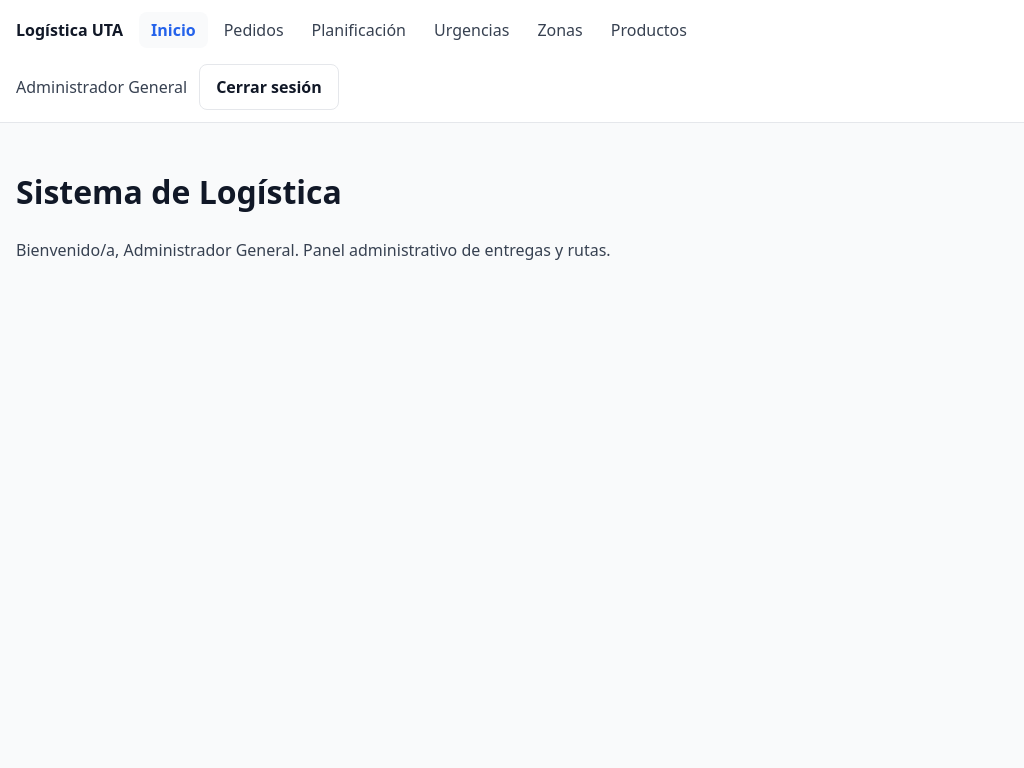
Scenario: App › navega a Productos desde el menú principal y marca la opción activa
The width and height of the screenshot is (1024, 768).
What coordinates should you click on to do the following:
click the link "Productos"
I would click on:
 (649, 30)
Its box is [611,19,687,41].
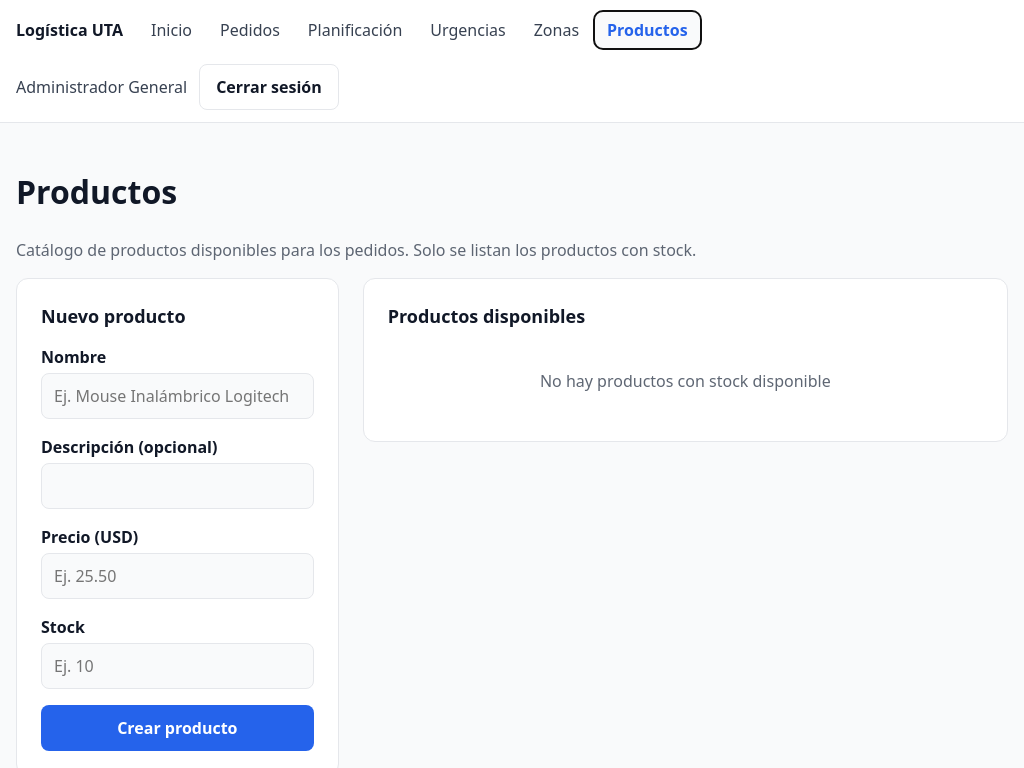
Result: the heading "Productos" is shown at [16,170,177,213]
